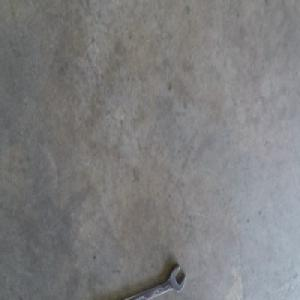Wrench: (125, 261, 186, 299)
